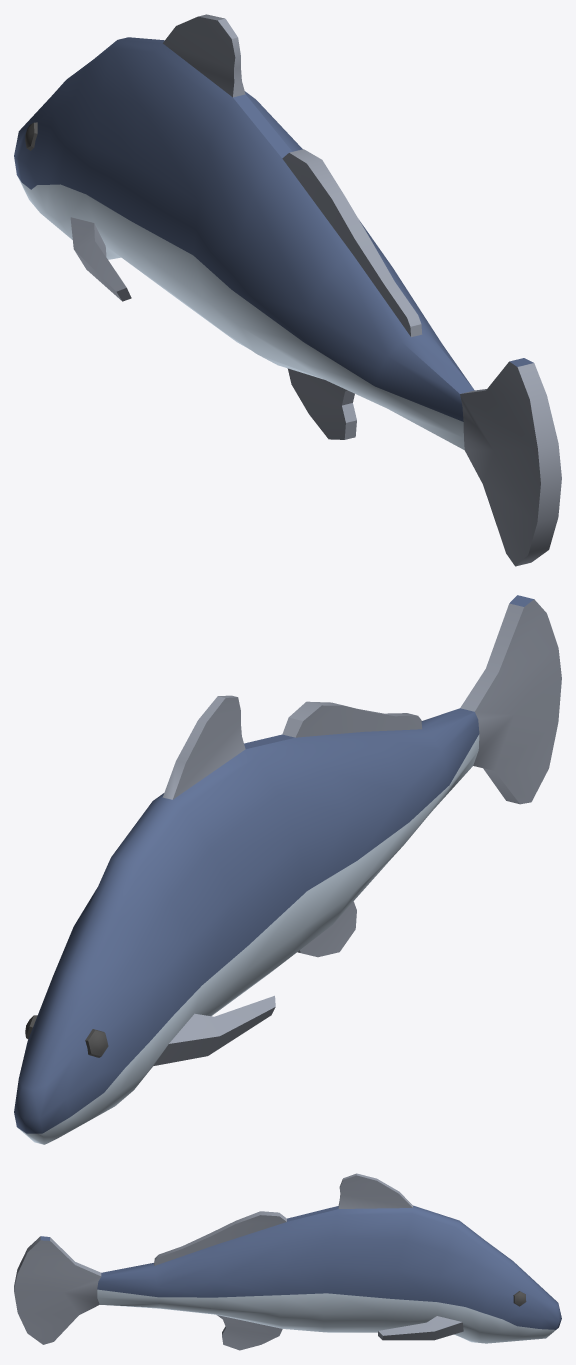
Rendered from fish2.glb.
3 renders of one model, top to bottom at view 1: azimuth 30°, elevation 25°; view 2: azimuth 150°, elevation 25°; view 3: azimuth 270°, elevation 25°, orthographic. The views are drawn at different scales.
Parts seen in each view (by area): view 1: fish03; view 2: fish03; view 3: fish03.
Part boxes in pixels (x1,y1,x2,y2): fish03: [14, 14, 561, 566]; fish03: [14, 595, 561, 1144]; fish03: [14, 1173, 561, 1350].
Bounding box in the file's own units: 0.4946 × 0.994 × 2.83.
